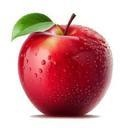apple: (12, 12, 114, 118)
